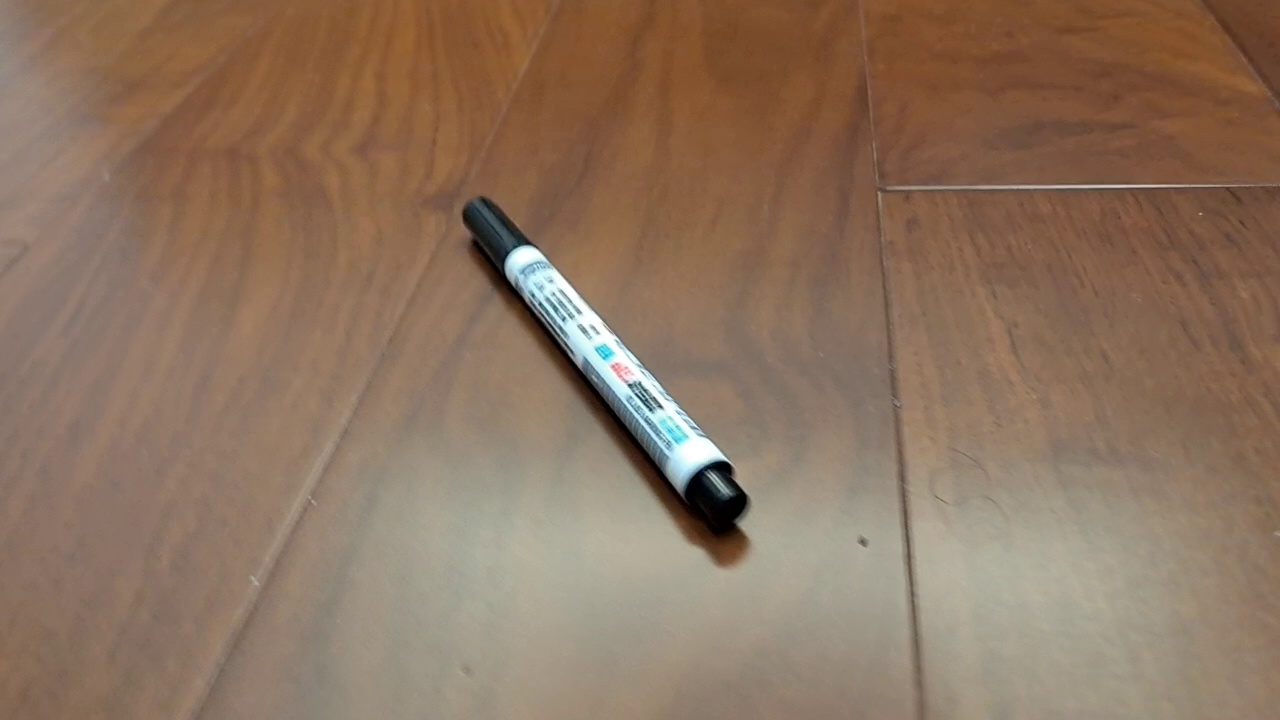pen: (461, 195, 754, 534)
